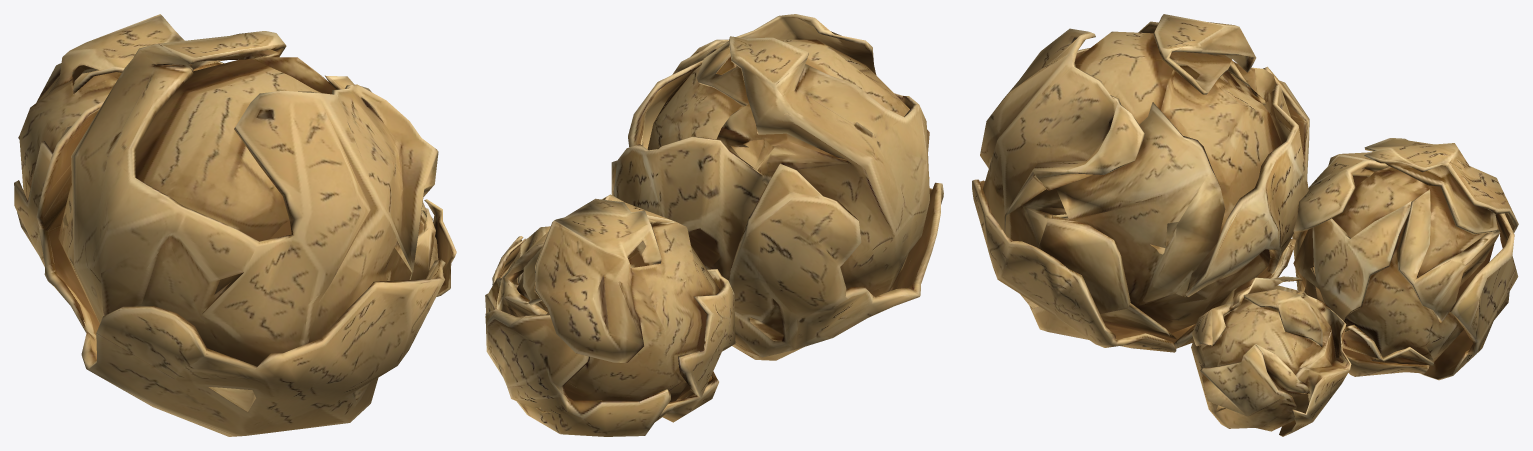
File: crumpled_paper.glb
The picture shows the model from 3 angles, left to right: view 1: azimuth 30°, elevation 25°; view 2: azimuth 150°, elevation 25°; view 3: azimuth 270°, elevation 25°; orthographic projection. The views are drawn at different scales.
Bounding box in the file's own units: 0.7436 × 0.6104 × 0.9624.
Materials: 1 (1 with a texture image).
